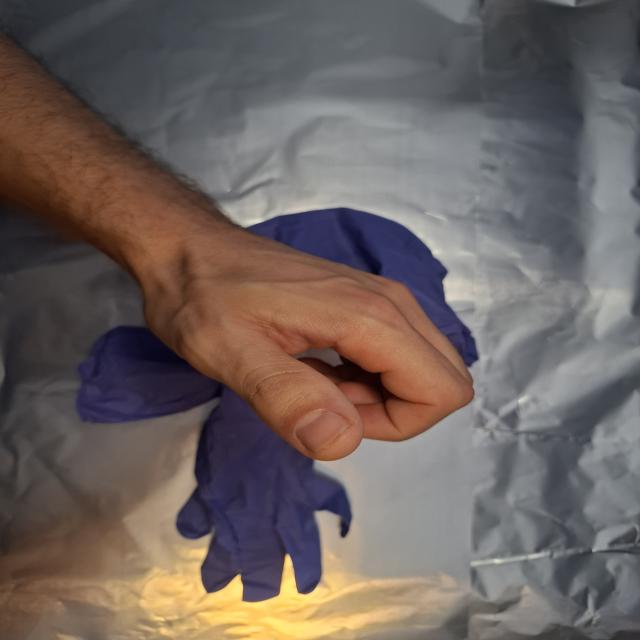glove_off: (115, 203, 478, 462)
